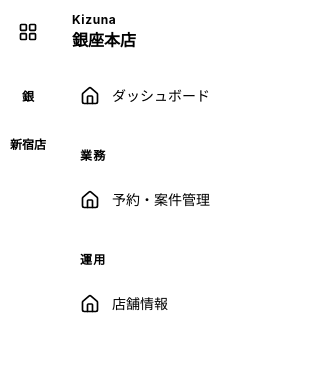
Test: Sidebar › パネル › グループを選ぶとグループ級の項目と見出しだけを出す（組織は店舗の文脈に出ない）
This screenshot has width=320, height=375.
Expected: the link "予約・案件管理" is shown, 80,190 -> 210,210
Click the button named "グループ" at (28, 32), box 8,12 -> 48,52
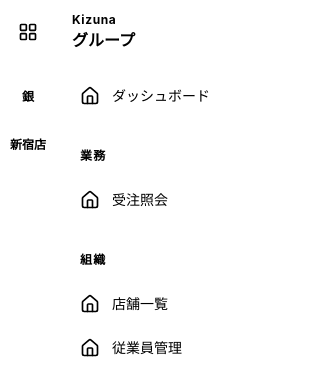
Expected: the link "受注照会" is shown, 80,190 -> 168,210
Expected: the link "従業員管理" is shown, 80,338 -> 182,358
Expected: the link "予約・案件管理" is gone
